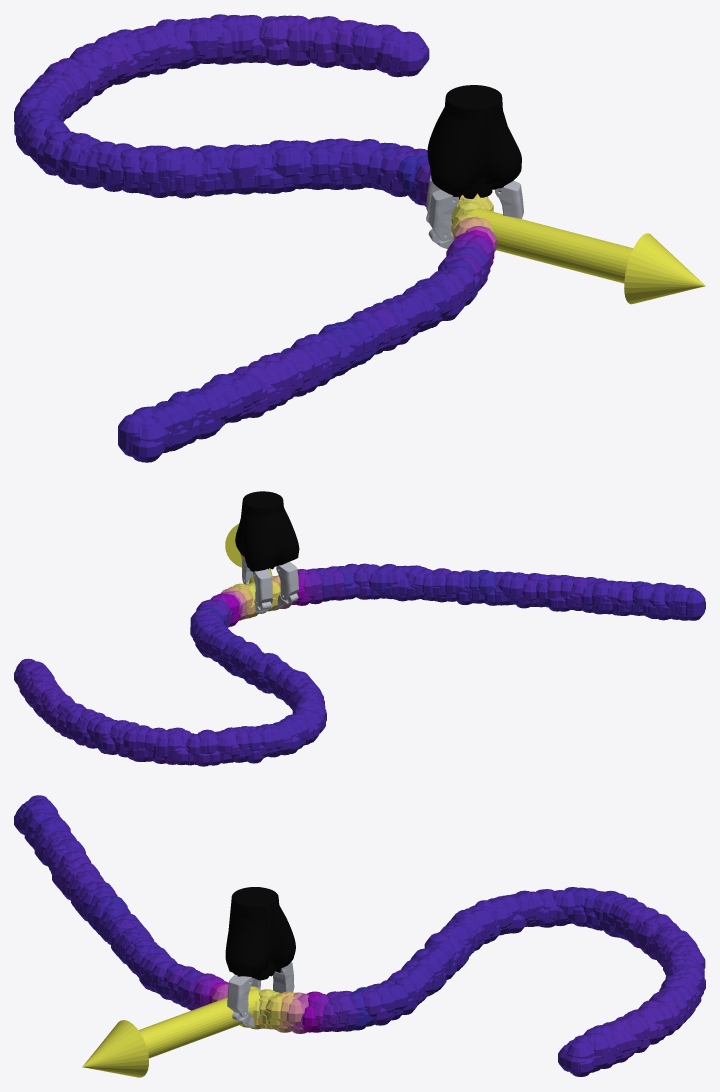
File: pred_hand_0.glb
3 views of the same model, one above another, from view 1: azimuth 30°, elevation 25°; view 2: azimuth 150°, elevation 25°; view 3: azimuth 270°, elevation 25° (orthographic). The views are drawn at different scales.
Parts seen in each view (by area): view 1: world, geometry_0f7ecc7b6c764; view 2: world, geometry_0f7ecc7b6c764; view 3: world, geometry_0f7ecc7b6c764.
Part boxes in pixels (x1,y1,x2,y2): world: [14, 14, 523, 462]; geometry_0f7ecc7b6c764: [471, 208, 705, 304]; world: [14, 491, 705, 766]; geometry_0f7ecc7b6c764: [225, 524, 272, 583]; world: [14, 795, 705, 1076]; geometry_0f7ecc7b6c764: [82, 989, 259, 1077].
Bounding box in the file's own units: 0.8386 × 0.2191 × 0.9593.
